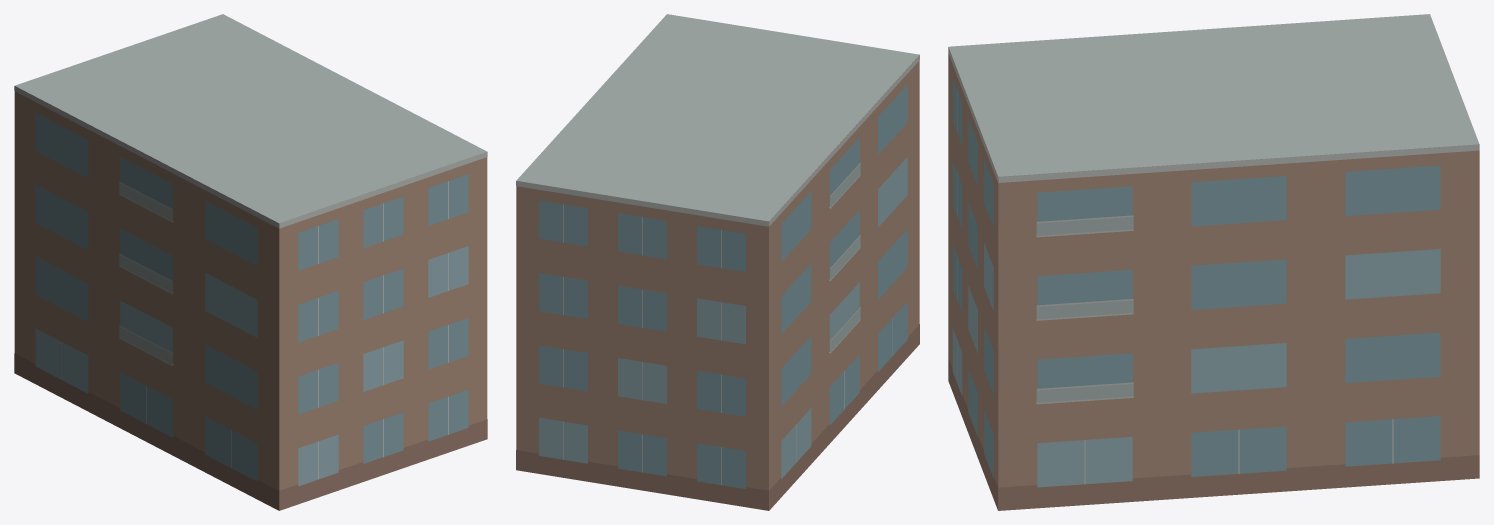
File: survey-upis-32830813.glb
3 renders of one model, left to right at view 1: azimuth 30°, elevation 25°; view 2: azimuth 150°, elevation 25°; view 3: azimuth 270°, elevation 25°, orthographic. The views are drawn at different scales.
Visible parts, largest first — view 1: survey-upis-32830813.tmp; view 2: survey-upis-32830813.tmp; view 3: survey-upis-32830813.tmp.
Boxes of the visible parts, left/top/right/bottom form: survey-upis-32830813.tmp: left=14, top=14, right=487, bottom=510; survey-upis-32830813.tmp: left=516, top=14, right=919, bottom=510; survey-upis-32830813.tmp: left=948, top=14, right=1479, bottom=510.
Size of the model in its own units: 13.81 by 13.2 by 19.04.
